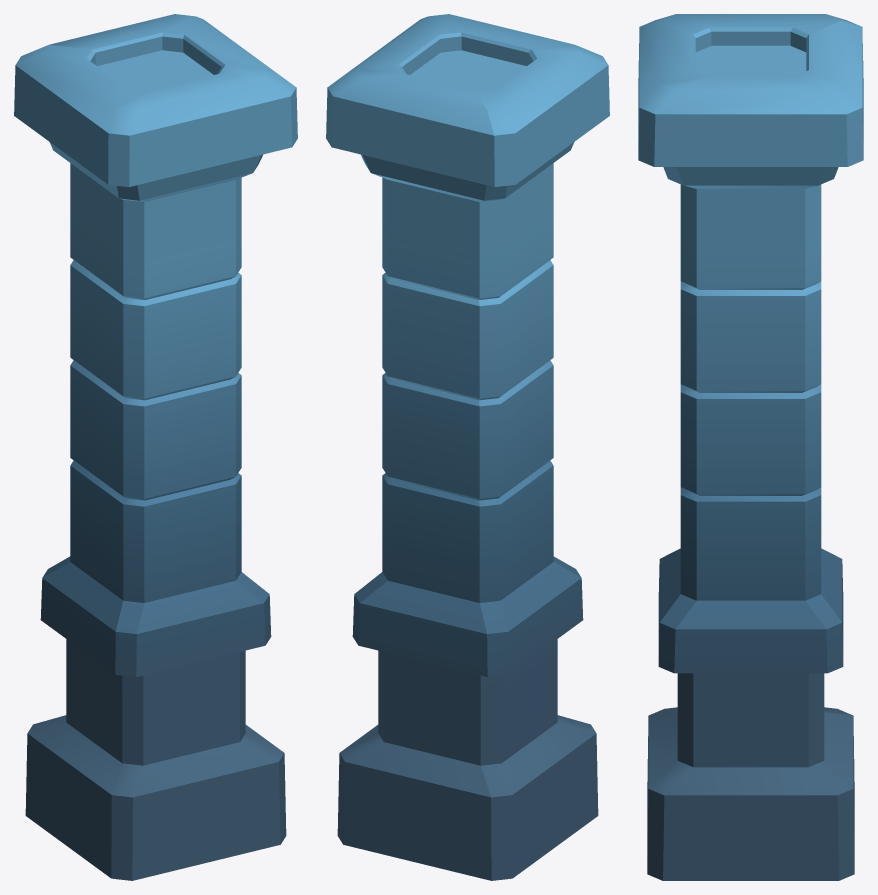
Rendered from Pillar 01.003.fbx.
3 views of the same model, side by side, from view 1: azimuth 30°, elevation 25°; view 2: azimuth 150°, elevation 25°; view 3: azimuth 270°, elevation 25° (orthographic). The views are drawn at different scales.
Visible parts, largest first — view 1: Pillar 01.003; view 2: Pillar 01.003; view 3: Pillar 01.003.
Boxes of the visible parts, x1,y1,x2,y2 form: Pillar 01.003: (14, 14, 297, 880); Pillar 01.003: (326, 14, 609, 880); Pillar 01.003: (638, 14, 863, 880).
Bounding box in the file's own units: 77.93 × 300 × 77.95.
